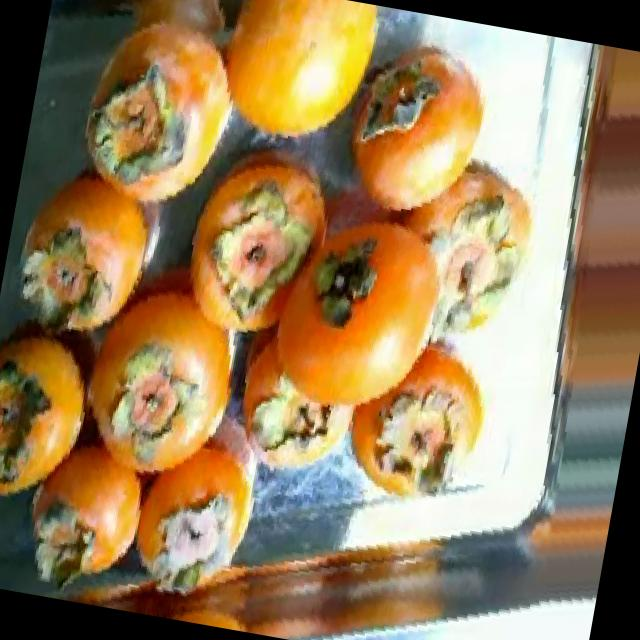Fruit: (183, 0, 379, 178), (0, 345, 55, 510), (44, 0, 145, 57)
